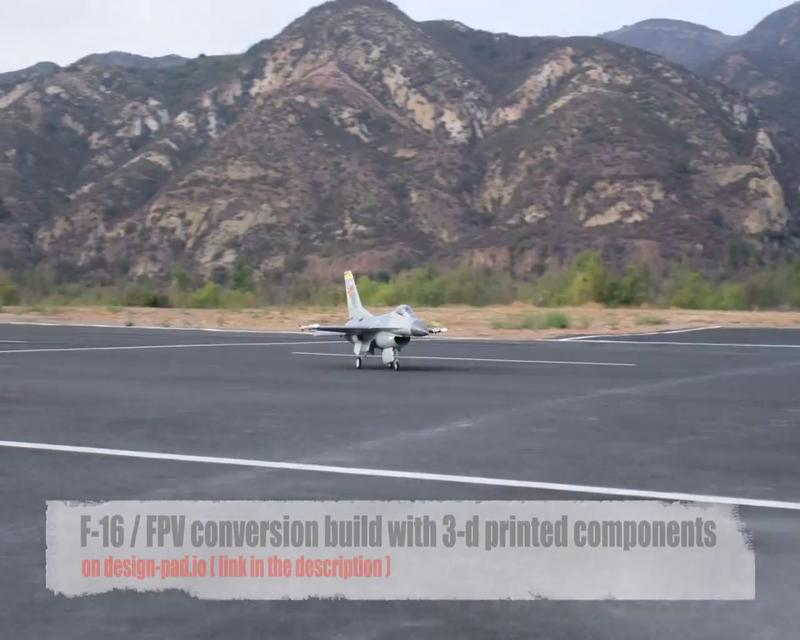UAV: (298, 271, 449, 369)
